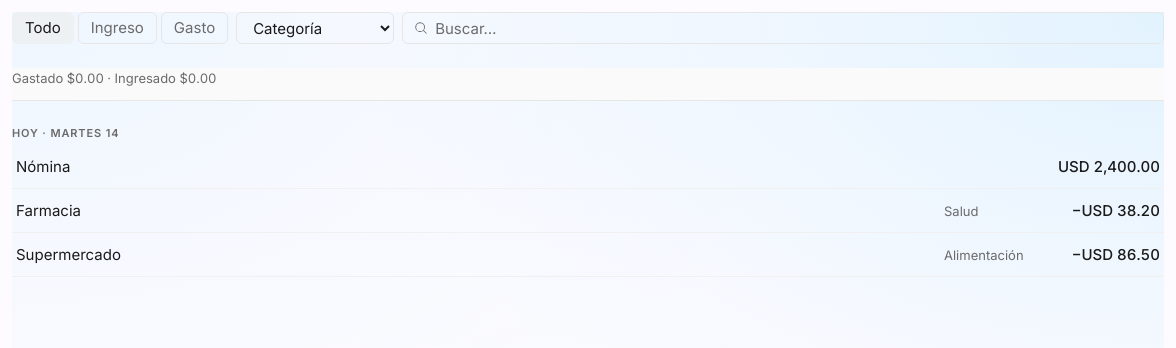
Test: Historial — filtros de categoría y tipo, aplican al instante y en combinación › filtro de tipo "Ingreso" solo muestra ingresos
What coordinates should you click on to do the following:
click the button "Ingreso"
I would click on:
 (117, 28)
Its box is [78, 12, 157, 44].
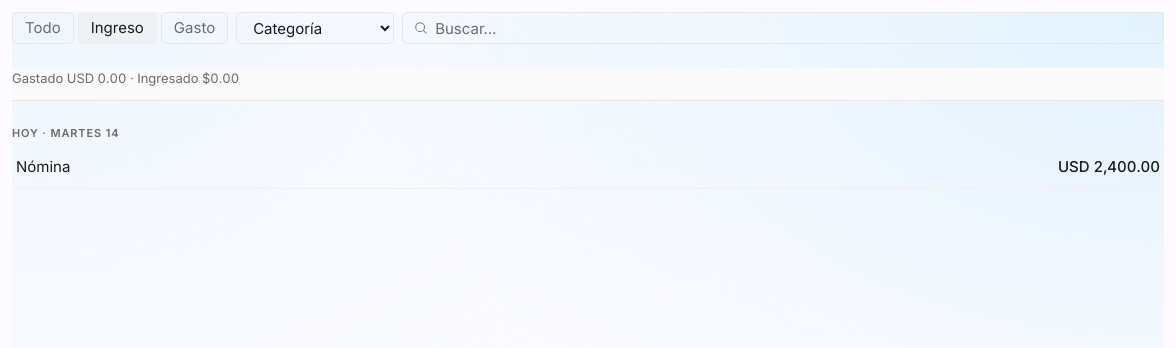
Expected: the text "Nómina" is shown, [16, 156, 70, 176]
Now the button "Farmacia" is gone
Now the button "Supermercado" is gone
